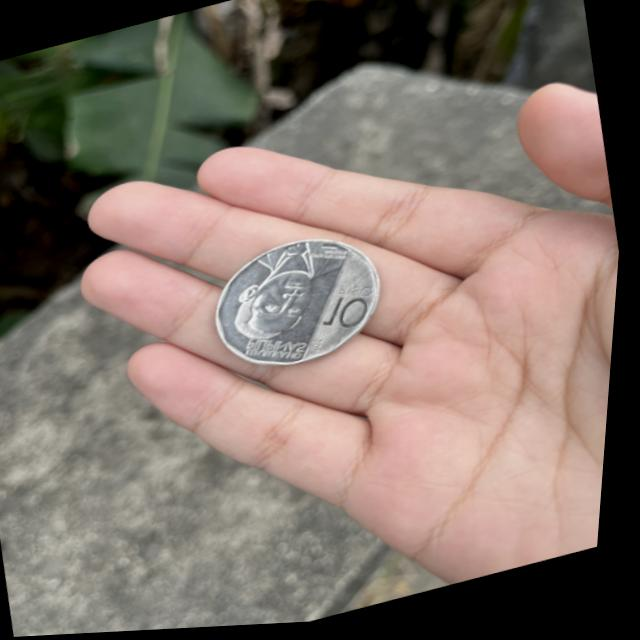10_New_Front: (313, 280, 389, 347)
